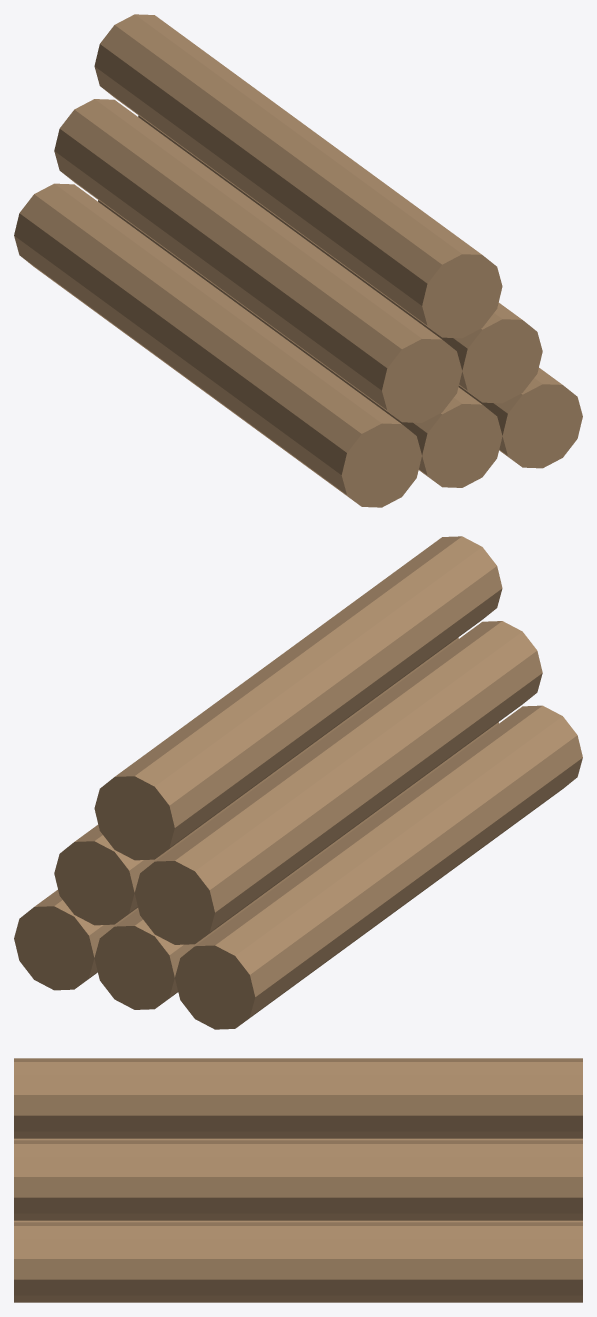
The model's file is timber_stack.gltf.
The picture shows the model from 3 angles, top to bottom: view 1: azimuth 30°, elevation 25°; view 2: azimuth 150°, elevation 25°; view 3: azimuth 270°, elevation 25°; orthographic projection. The views are drawn at different scales.
Visible parts, largest first — view 1: Log_1_0, Log_2_0, Log_0_0, Log_0_1, Log_1_1, Log_0_2; view 2: Log_1_0, Log_2_0, Log_0_0, Log_0_1, Log_1_1, Log_0_2; view 3: Log_0_2, Log_1_1, Log_2_0, Log_0_1, Log_1_0.
Boxes of the visible parts, bbox=[...] form: Log_1_0: bbox=[54, 99, 462, 422]; Log_2_0: bbox=[94, 14, 502, 338]; Log_0_0: bbox=[14, 183, 421, 507]; Log_0_1: bbox=[98, 200, 502, 487]; Log_1_1: bbox=[138, 115, 542, 403]; Log_0_2: bbox=[458, 368, 582, 468]; Log_1_0: bbox=[134, 621, 542, 944]; Log_2_0: bbox=[94, 536, 502, 860]; Log_0_0: bbox=[175, 705, 582, 1029]; Log_0_1: bbox=[94, 722, 498, 1009]; Log_1_1: bbox=[54, 637, 458, 925]; Log_0_2: bbox=[14, 890, 138, 990]; Log_0_2: bbox=[14, 1222, 582, 1302]; Log_1_1: bbox=[14, 1140, 582, 1220]; Log_2_0: bbox=[14, 1058, 582, 1138]; Log_0_1: bbox=[14, 1220, 582, 1222]; Log_1_0: bbox=[14, 1138, 582, 1140].
Size of the model in its own units: 1.08 by 1 by 2.54.
